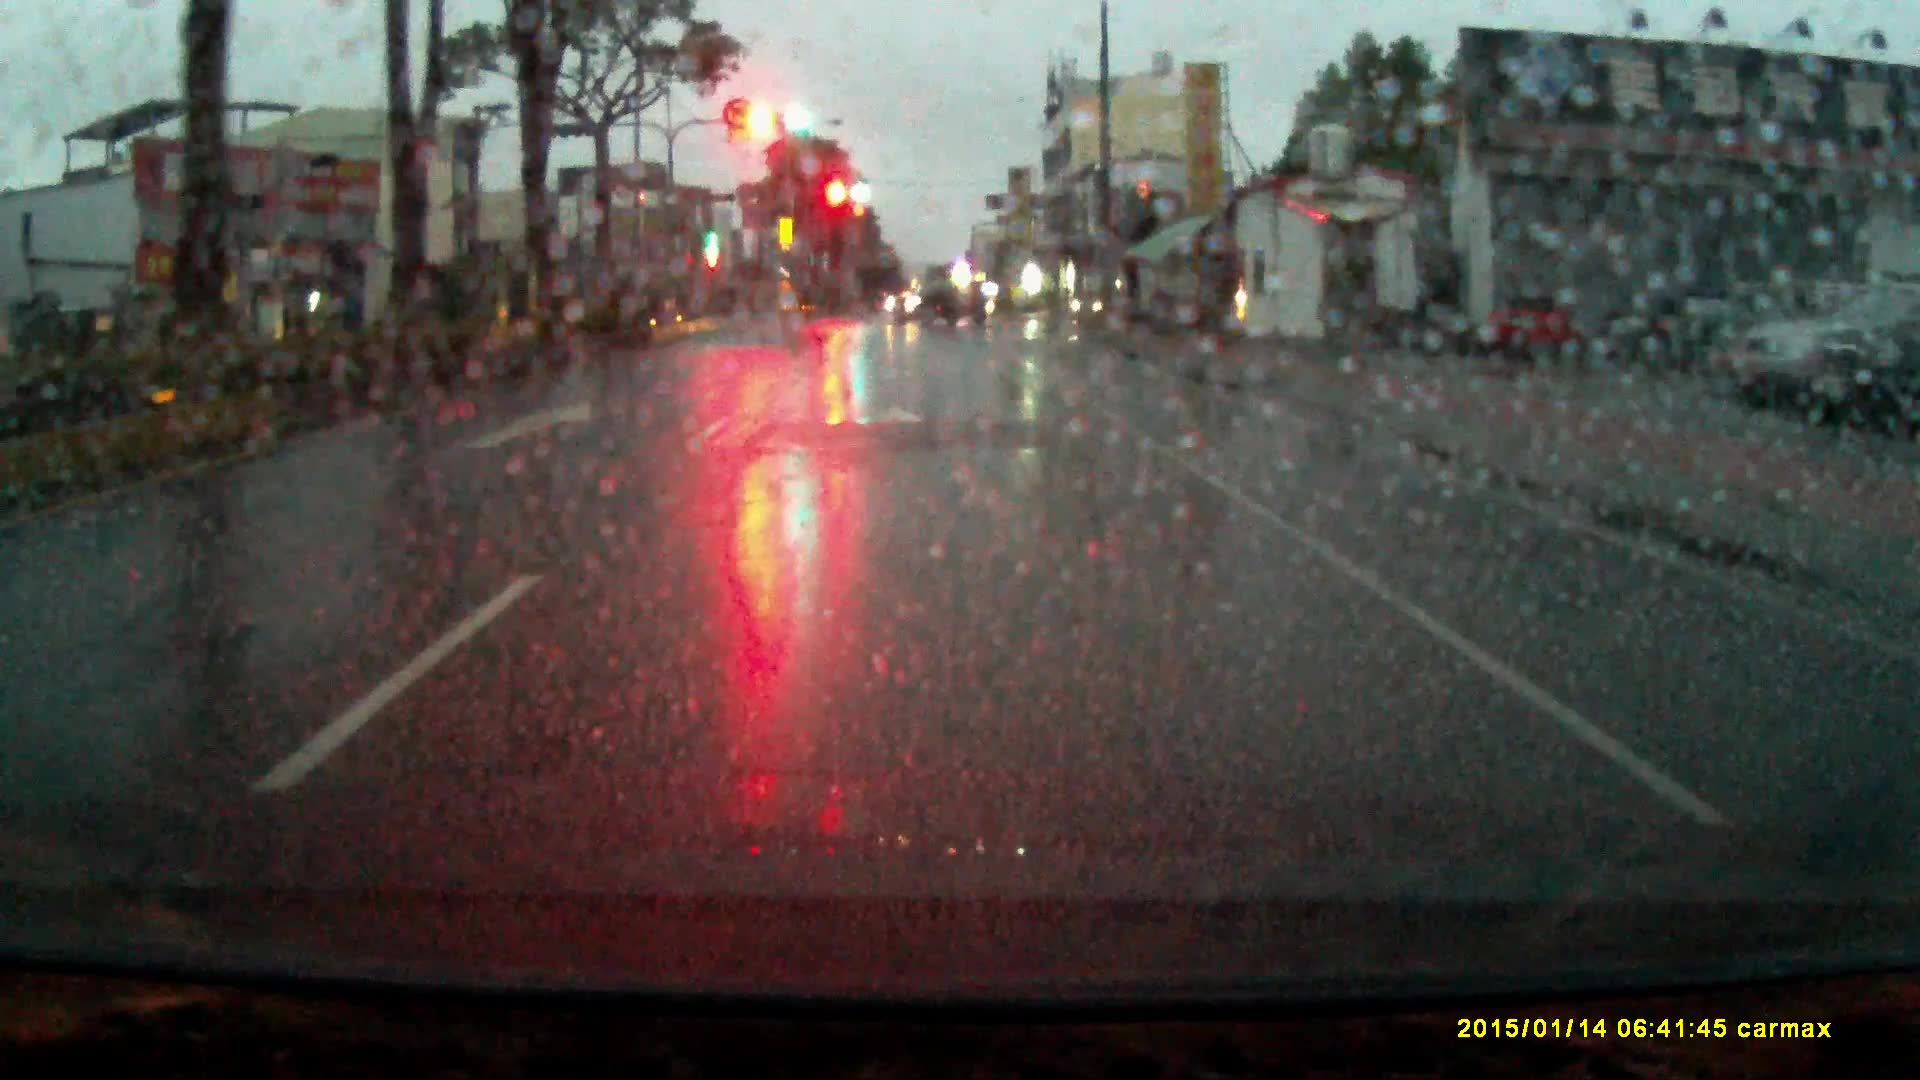vehicle: (1712, 277, 1920, 406), (1808, 303, 1920, 422), (885, 276, 986, 335)
